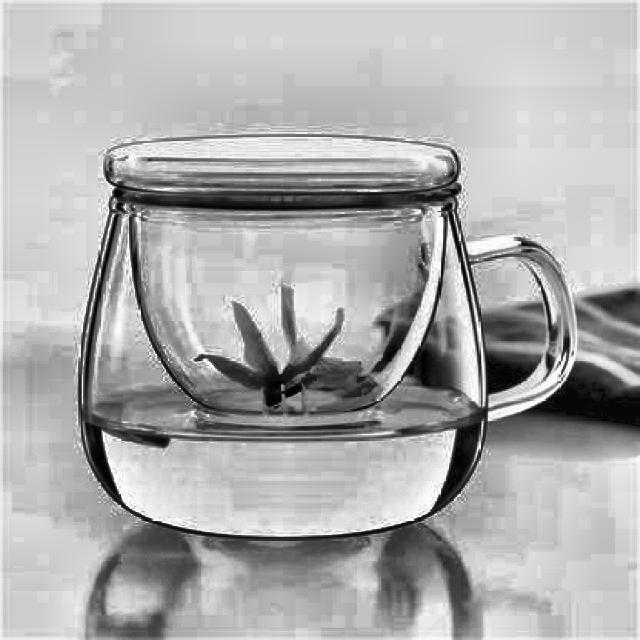Mug: (78, 133, 579, 542)
